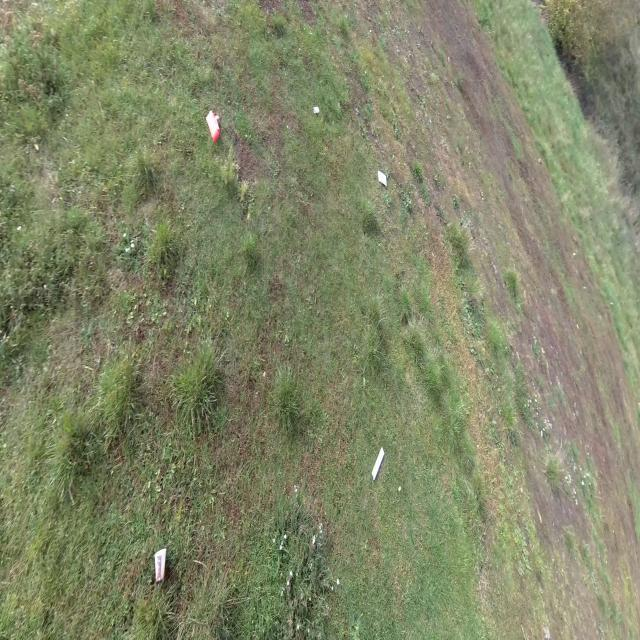rubbish: (204, 110, 221, 143), (370, 446, 385, 482), (153, 546, 166, 583), (377, 170, 387, 187), (313, 105, 321, 114)
